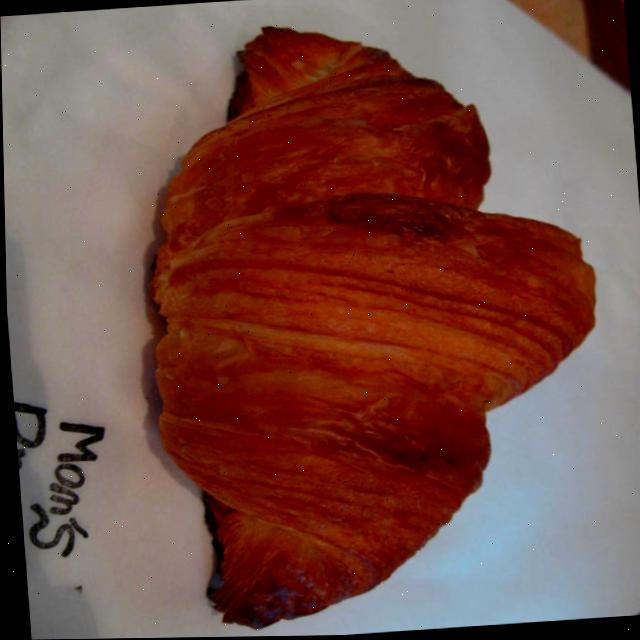面包点心: (112, 2, 626, 639)
